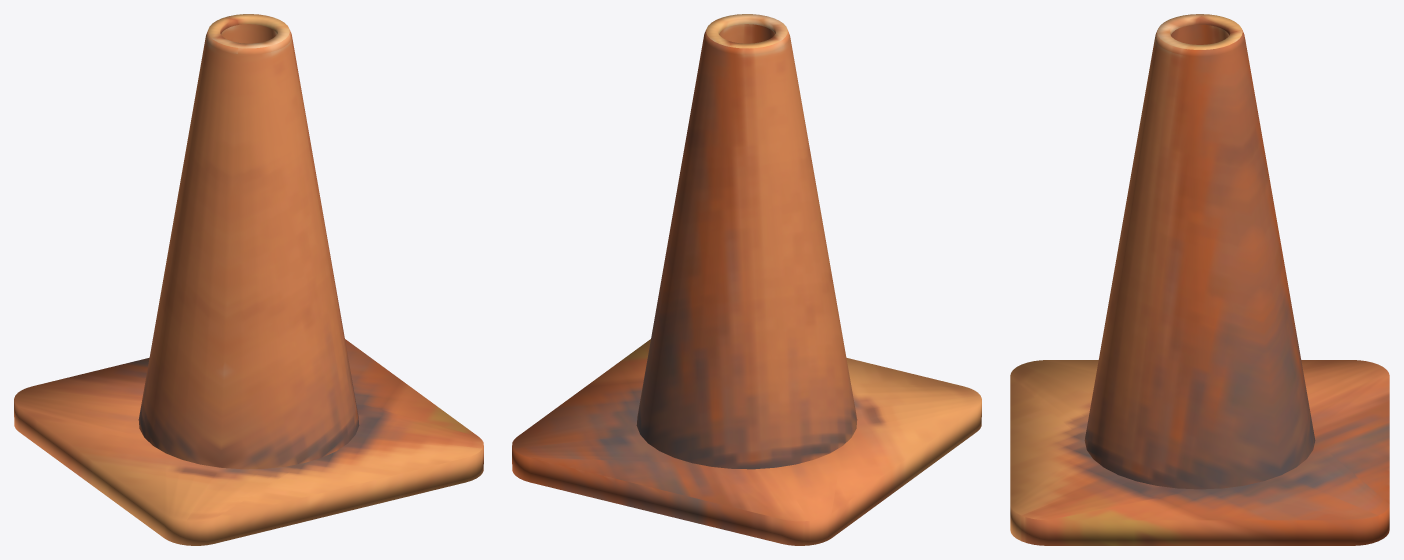
Rendered from RoadCone.fbx.
3 renders of one model, left to right at view 1: azimuth 30°, elevation 25°; view 2: azimuth 150°, elevation 25°; view 3: azimuth 270°, elevation 25°, orthographic. The views are drawn at different scales.
Parts seen in each view (by area): view 1: RoadCone; view 2: RoadCone; view 3: RoadCone.
Boxes of the visible parts, left/top/right/bottom form: RoadCone: left=14, top=14, right=483, bottom=545; RoadCone: left=512, top=14, right=981, bottom=545; RoadCone: left=1010, top=14, right=1389, bottom=545.
Bounding box in the file's own units: 0.2803 × 0.3536 × 0.2803.
